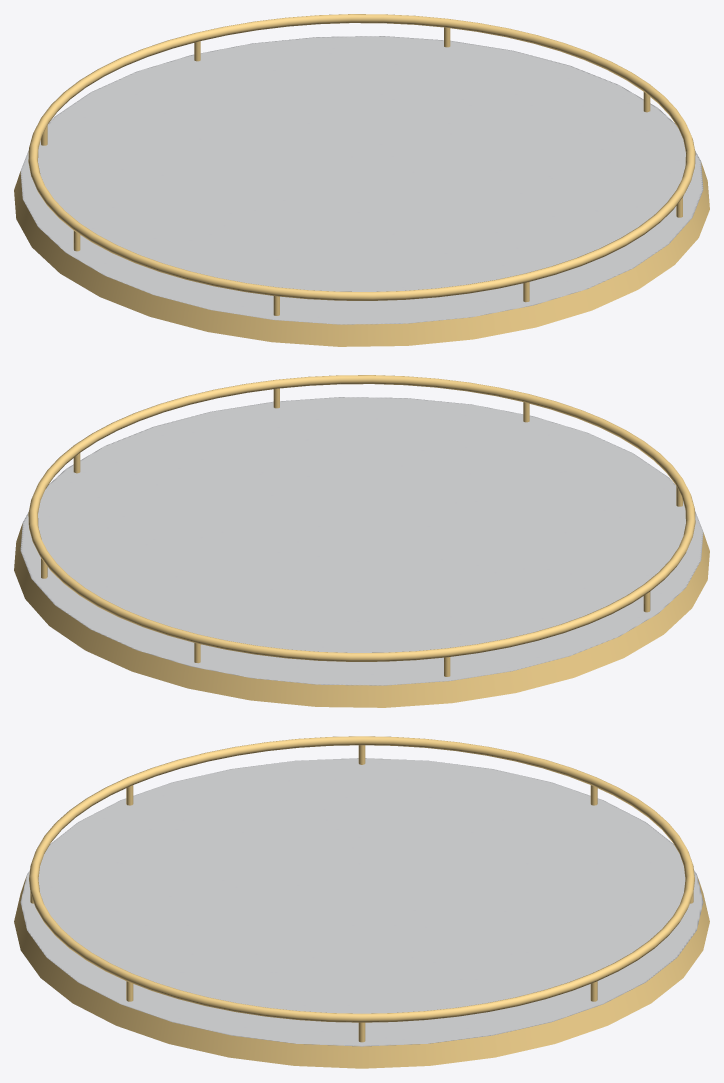
The model's file is Podium_02.FBX.
The picture shows the model from 3 angles, top to bottom: view 1: azimuth 30°, elevation 25°; view 2: azimuth 150°, elevation 25°; view 3: azimuth 270°, elevation 25°; orthographic projection.
Parts seen in each view (by area): view 1: Podium_02; view 2: Podium_02; view 3: Podium_02.
Part boxes in pixels (x1=…): Podium_02: x1=14, y1=14, x2=709, y2=346; Podium_02: x1=14, y1=375, x2=709, y2=707; Podium_02: x1=14, y1=736, x2=709, y2=1068.
Bounding box in the file's own units: 5.8 × 0.4283 × 5.8.
Materials: 1 (1 with a texture image).
